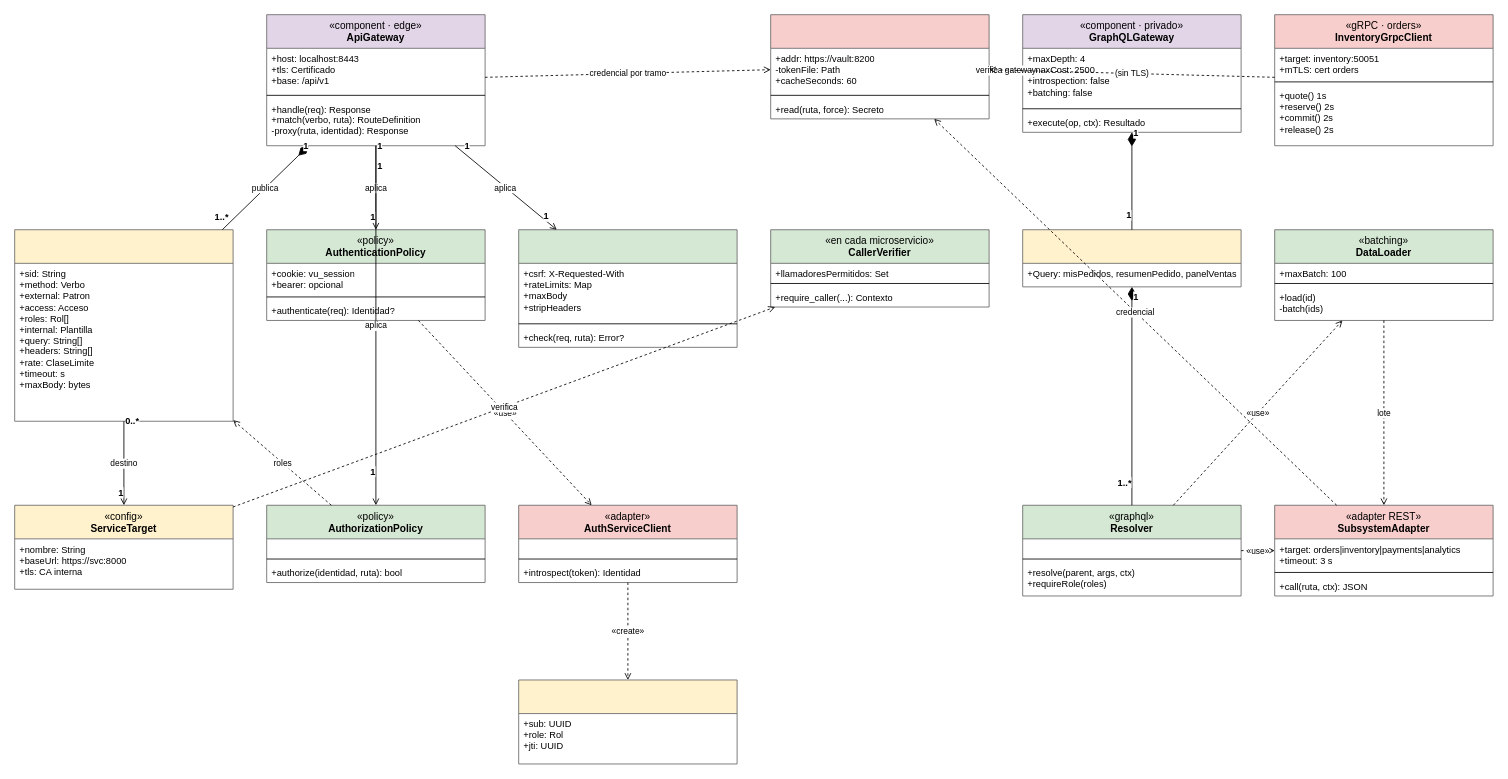
The diagram is 1508 pixels wide and 779 high, and some of its shapes have lost their labels. The shapes that lost their labels are listed below. From the top down, each one's box as (x1, y1, x2, y2) in pixels, then its label:
(770, 14, 989, 119): «interface · Vault» SecretProvider
(1022, 229, 1241, 287): «graphql» Schema
(518, 229, 737, 347): «policy» RequestPolicy
(14, 229, 233, 421): «config» RouteDefinition
(518, 679, 737, 764): «value» Identidad
